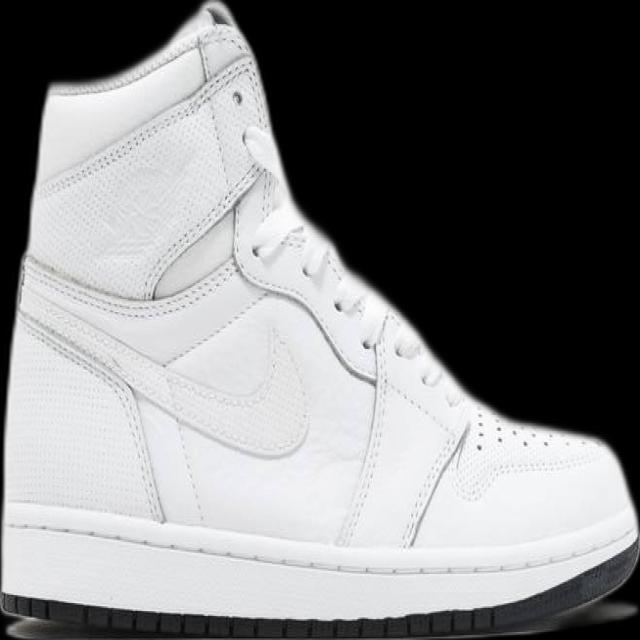J1_InsoleChar: (0, 0, 639, 639)
J1_StitchPattern: (14, 214, 601, 556), (237, 208, 472, 547), (1, 509, 638, 581), (15, 298, 167, 523), (333, 314, 471, 548), (40, 52, 251, 198), (398, 403, 596, 548), (235, 207, 388, 380), (0, 592, 496, 639), (448, 406, 600, 505), (333, 318, 394, 548), (398, 422, 469, 549)
